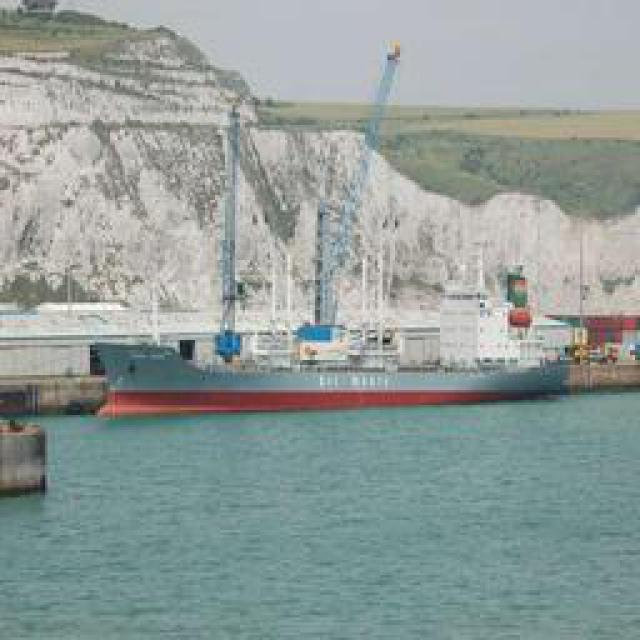Ship: (97, 307, 587, 420)
